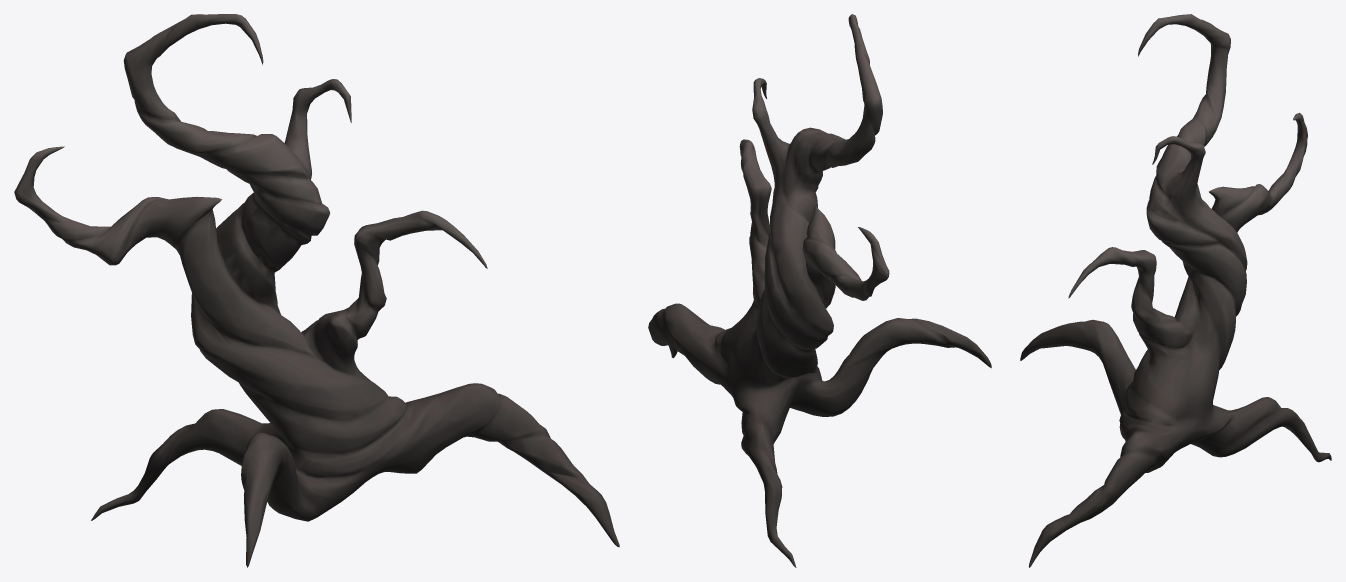
File: swirly_tree_01_c.glb
3 renders of one model, left to right at view 1: azimuth 30°, elevation 25°; view 2: azimuth 150°, elevation 25°; view 3: azimuth 270°, elevation 25°, orthographic. The views are drawn at different scales.
Visible parts, largest first — view 1: SM_KC_Swirly_Tree_01_C; view 2: SM_KC_Swirly_Tree_01_C; view 3: SM_KC_Swirly_Tree_01_C.
Boxes of the visible parts, bbox=[...] form: SM_KC_Swirly_Tree_01_C: bbox=[14, 14, 619, 567]; SM_KC_Swirly_Tree_01_C: bbox=[648, 14, 991, 567]; SM_KC_Swirly_Tree_01_C: bbox=[1020, 14, 1331, 567].
Size of the model in its own units: 22.38 by 28.47 by 17.57.
Materials: 1 (1 with a texture image).
